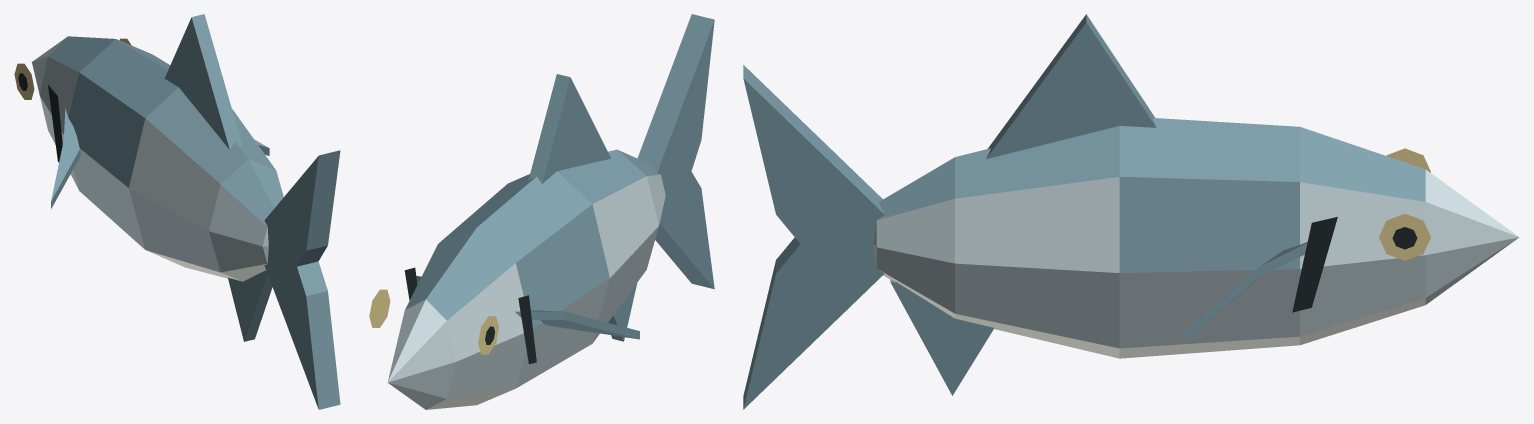
Rendered from sardina.glb.
3 renders of one model, left to right at view 1: azimuth 30°, elevation 25°; view 2: azimuth 150°, elevation 25°; view 3: azimuth 270°, elevation 25°, orthographic. The views are drawn at different scales.
Parts seen in each view (by area): view 1: Sardina_Mesh; view 2: Sardina_Mesh; view 3: Sardina_Mesh.
Boxes of the visible parts, bbox=[...] form: Sardina_Mesh: bbox=[14, 14, 340, 409]; Sardina_Mesh: bbox=[369, 14, 714, 409]; Sardina_Mesh: bbox=[743, 14, 1519, 409].
Size of the model in its own units: 0.2015 by 0.26 by 0.4752.
